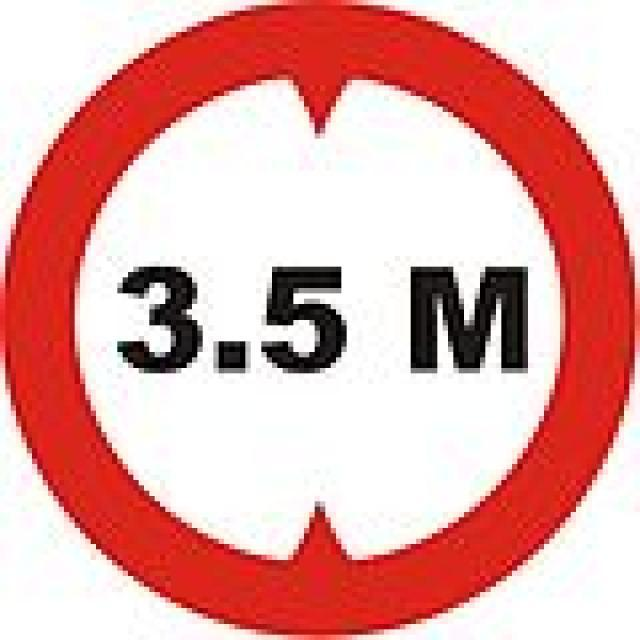Height limit-3-5m: (0, 5, 640, 640)
